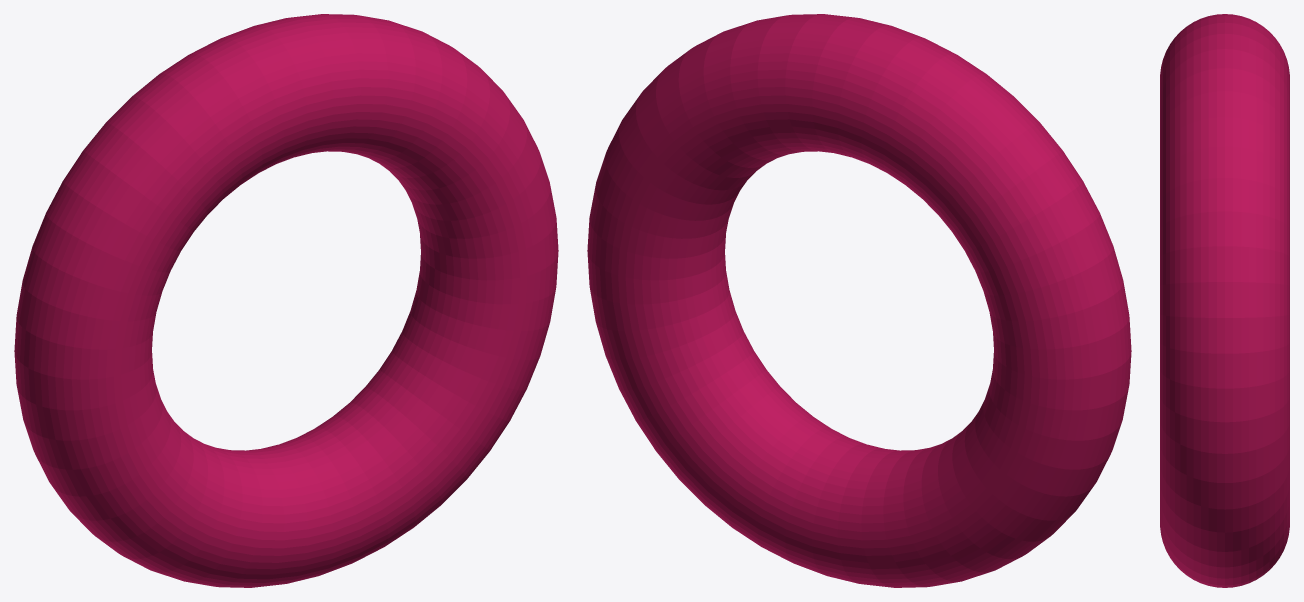
3 renders of one model, left to right at view 1: azimuth 30°, elevation 25°; view 2: azimuth 150°, elevation 25°; view 3: azimuth 270°, elevation 25°, orthographic. The views are drawn at different scales.
Visible parts, largest first — view 1: world; view 2: world; view 3: world.
Part boxes in pixels (x1,y1,x2,y2): world: [14, 14, 558, 587]; world: [587, 14, 1131, 587]; world: [1160, 14, 1289, 587].
Size of the model in its own units: 37.07 by 36.99 by 8.38.
